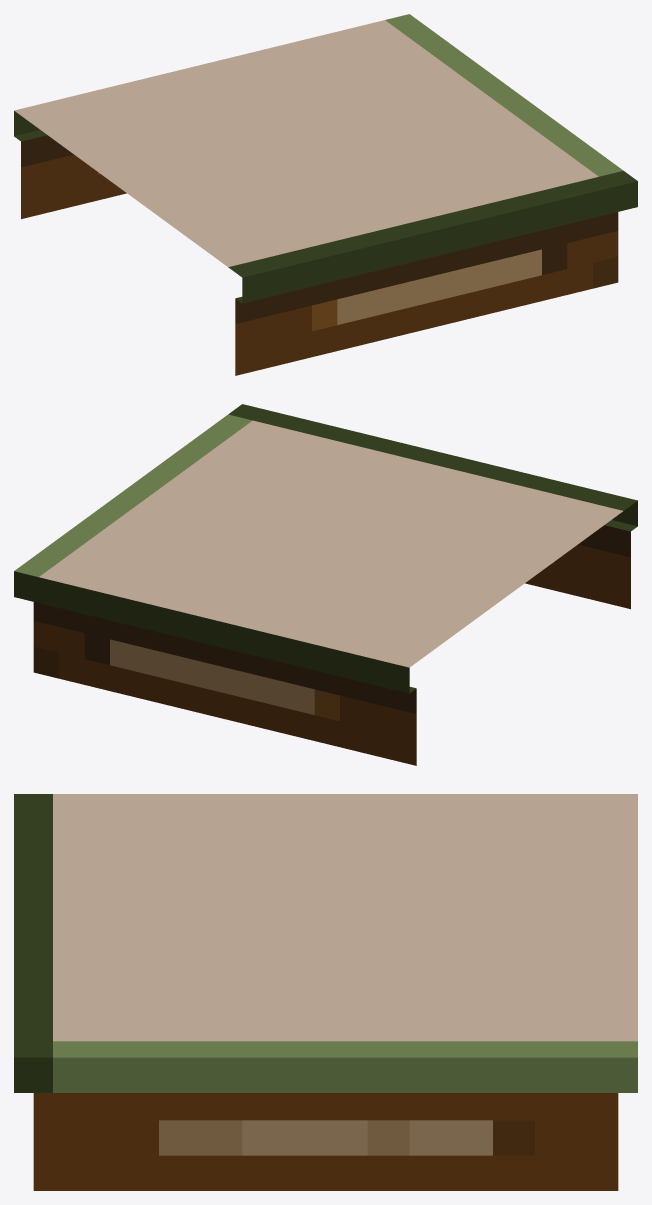
File: counter_518x11.gltf
The picture shows the model from 3 angles, top to bottom: view 1: azimuth 30°, elevation 25°; view 2: azimuth 150°, elevation 25°; view 3: azimuth 270°, elevation 25°; orthographic projection. The views are drawn at different scales.
Parts seen in each view (by area): view 1: Counter_518x11; view 2: Counter_518x11; view 3: Counter_518x11.
Boxes of the visible parts, x1,y1,x2,y2 form: Counter_518x11: (14, 14, 637, 375); Counter_518x11: (14, 404, 637, 765); Counter_518x11: (14, 794, 637, 1190).
Size of the model in its own units: 2.07 by 0.5175 by 2.07.
1 material, 1 textured.
